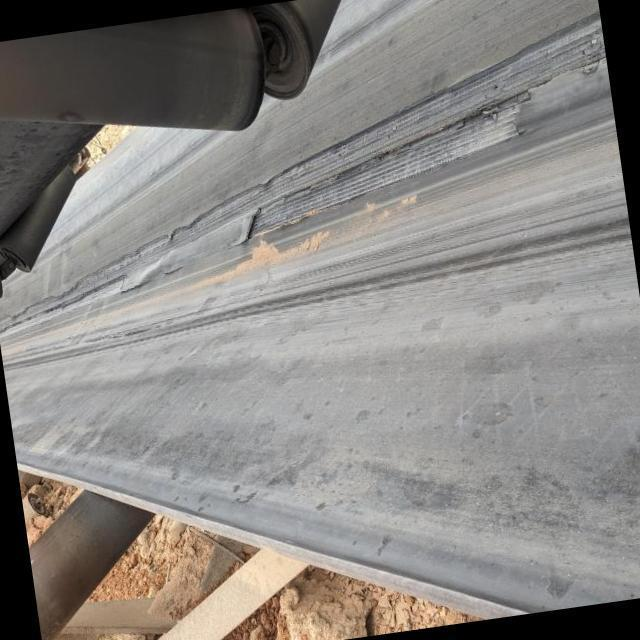Tear: (0, 7, 615, 343)
